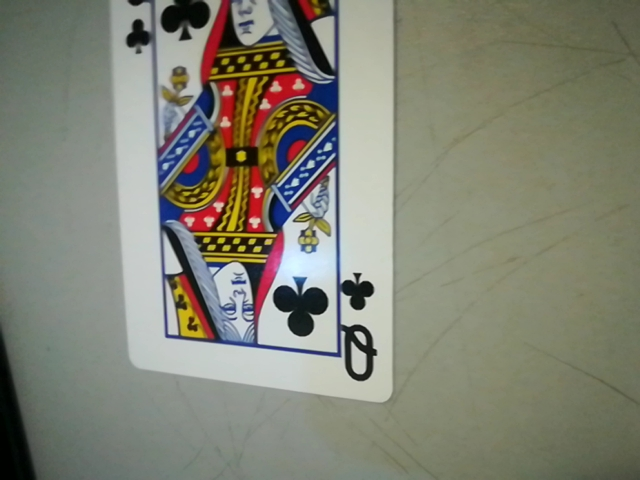mh q: (332, 268, 390, 391)
